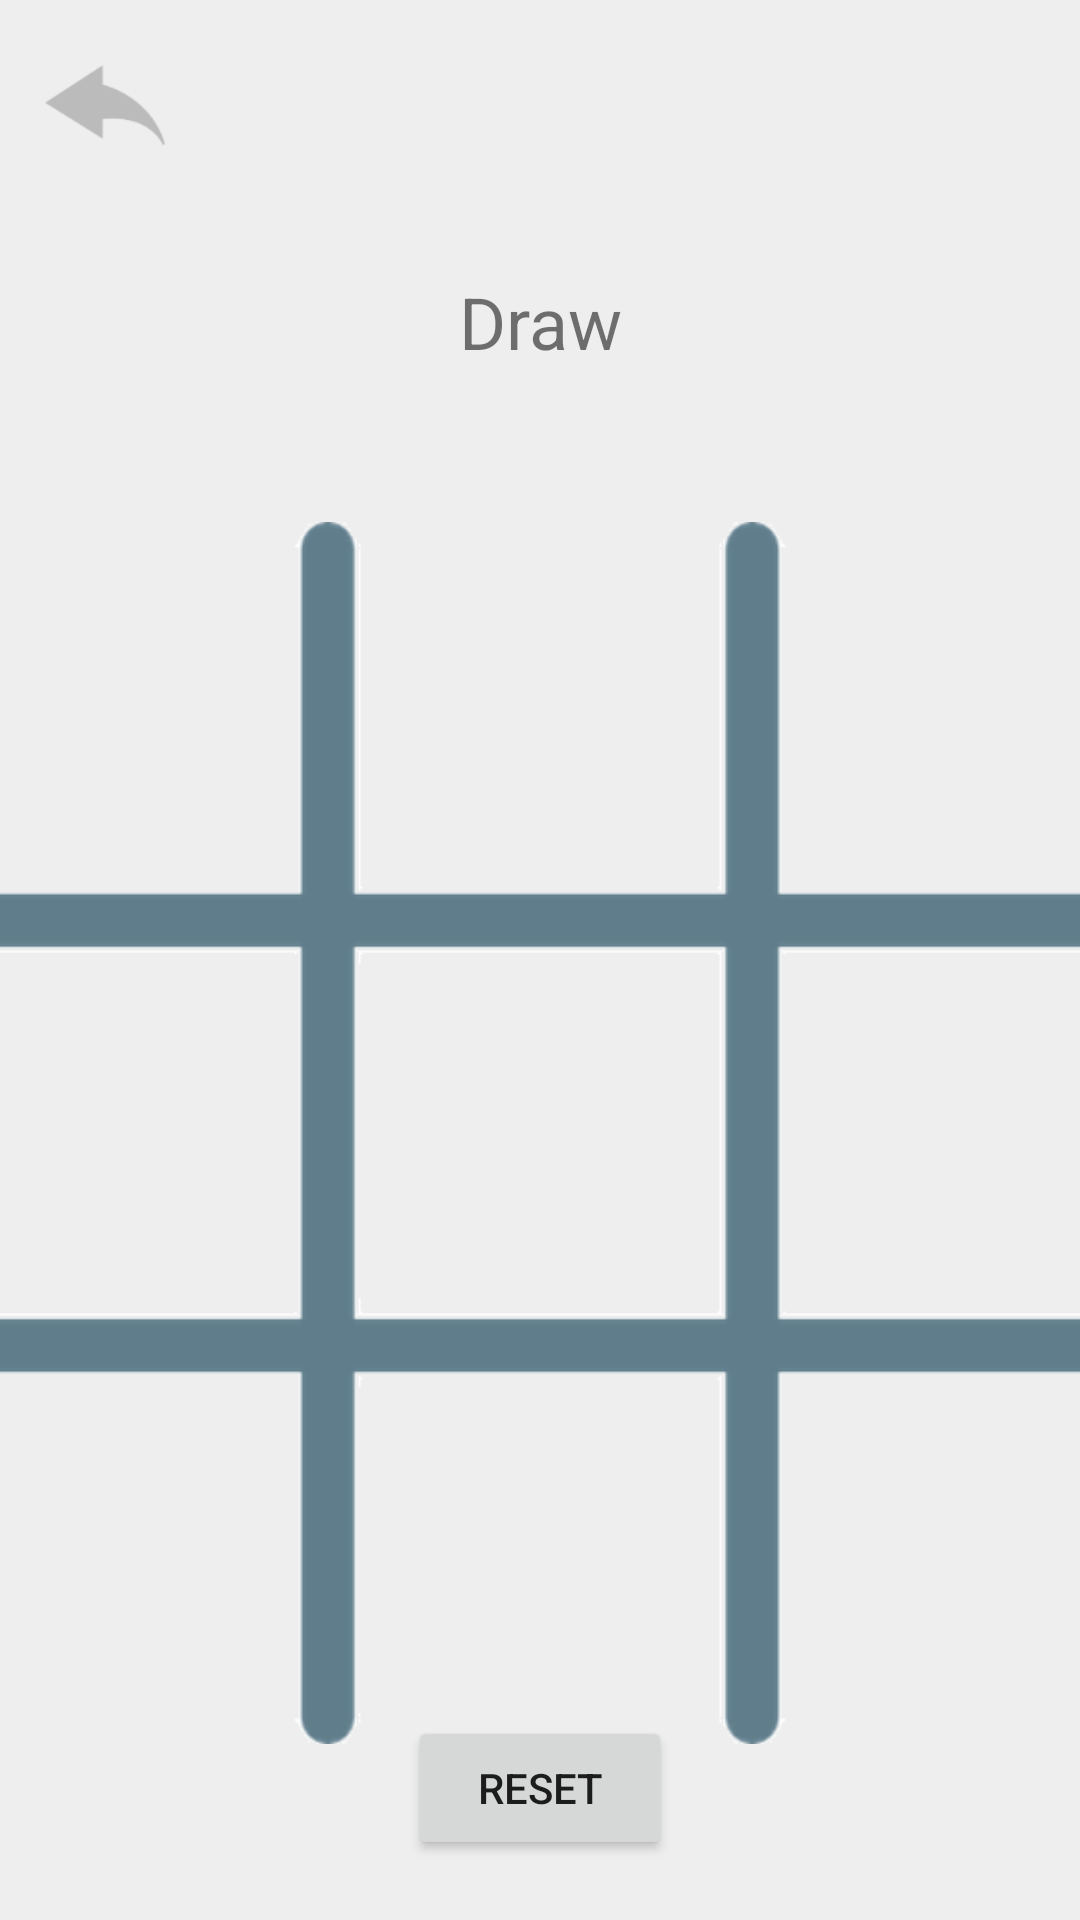

Named icons in this screenshot (1080 x 1920) and their bounding boxes, (x1, y1, x2, y2):
back: (46, 66, 165, 145)
